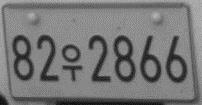2: (87, 33, 111, 82), (35, 34, 59, 81)
6: (165, 34, 188, 83), (139, 34, 162, 82)
8: (112, 33, 136, 82), (10, 34, 34, 80)
우: (61, 43, 83, 81)
